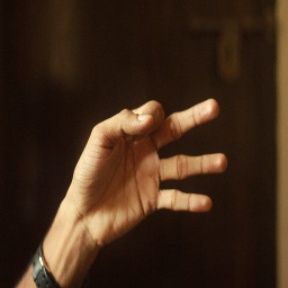K: (73, 98, 228, 223)
